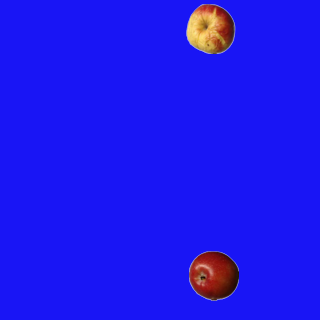Apple Braeburn: (188, 250, 238, 300)
Apple Red Yellow 1: (185, 3, 235, 53)
